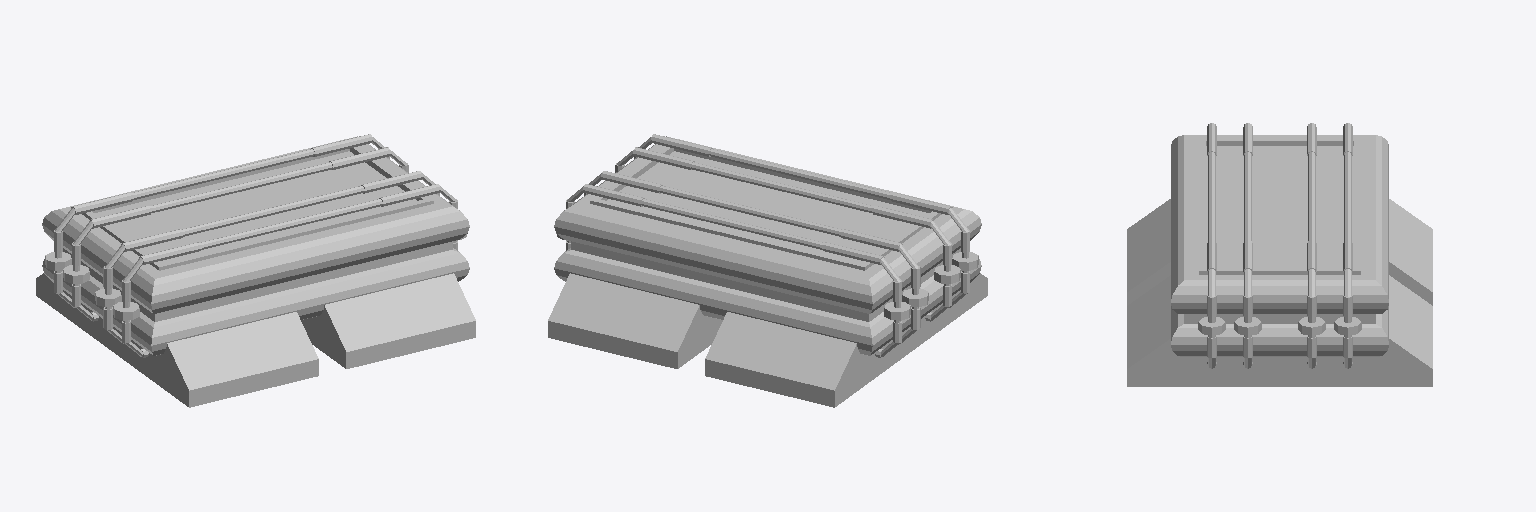
File: liquidStorageBox01.obj
3 renders of one model, left to right at view 1: azimuth 30°, elevation 25°; view 2: azimuth 150°, elevation 25°; view 3: azimuth 270°, elevation 25°, orthographic.
Visible parts, largest first — view 1: LowBaseTank_Cube.002, LowTankBase_Cube.004, LowMidPipe_Cylinder.001, LowLeftPipe_Cylinder; view 2: LowBaseTank_Cube.002, LowTankBase_Cube.004, LowMidPipe_Cylinder.001, LowLeftPipe_Cylinder; view 3: LowBaseTank_Cube.002, LowTankBase_Cube.004, LowMidPipe_Cylinder.001, LowLeftPipe_Cylinder.
Part boxes in pixels (left/top/right/bottom): LowBaseTank_Cube.002: left=42, top=136, right=469, bottom=355; LowTankBase_Cube.004: left=36, top=273, right=475, bottom=407; LowMidPipe_Cylinder.001: left=63, top=147, right=439, bottom=344; LowLeftPipe_Cylinder: left=45, top=134, right=466, bottom=357; LowBaseTank_Cube.002: left=554, top=136, right=981, bottom=355; LowTankBase_Cube.004: left=548, top=273, right=987, bottom=407; LowMidPipe_Cylinder.001: left=584, top=147, right=960, bottom=344; LowLeftPipe_Cylinder: left=557, top=134, right=978, bottom=357; LowBaseTank_Cube.002: left=1171, top=135, right=1388, bottom=356; LowTankBase_Cube.004: left=1127, top=199, right=1432, bottom=386; LowMidPipe_Cylinder.001: left=1234, top=123, right=1325, bottom=368; LowLeftPipe_Cylinder: left=1198, top=123, right=1361, bottom=368.
Size of the model in its own units: 9.55 by 3.16 by 7.23.